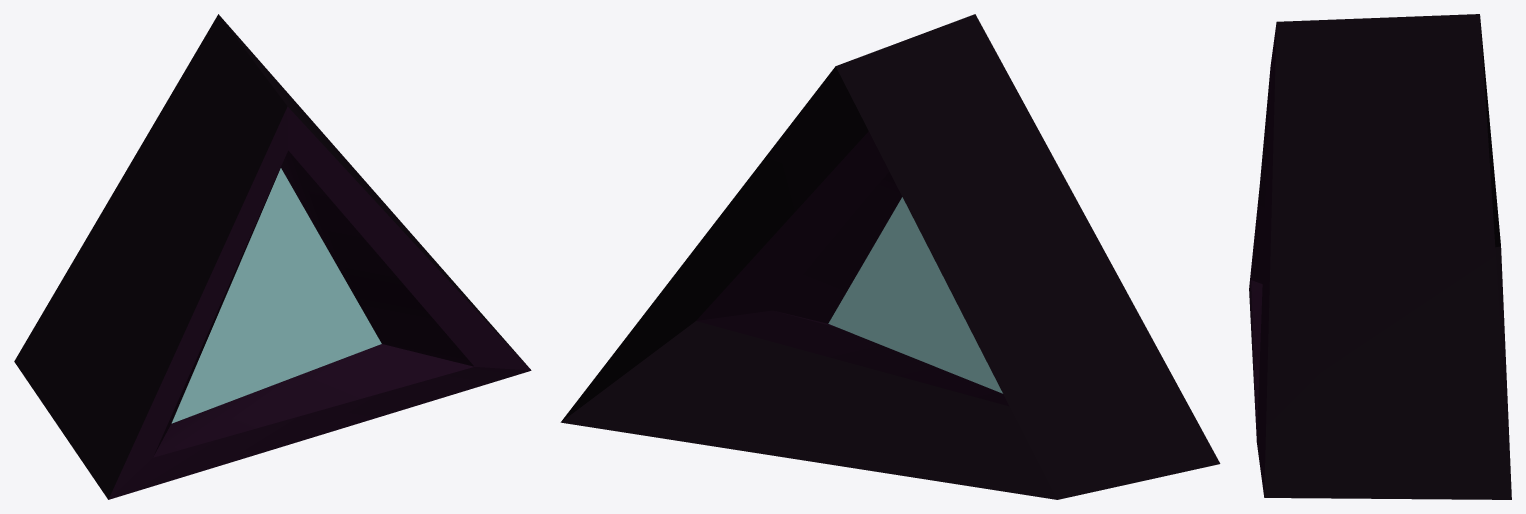
The model's file is c_house_window_triangle_ac.fbx.
3 renders of one model, left to right at view 1: azimuth 30°, elevation 25°; view 2: azimuth 150°, elevation 25°; view 3: azimuth 270°, elevation 25°, orthographic. The views are drawn at different scales.
Parts seen in each view (by area): view 1: c_house_window_triangle_ac; view 2: c_house_window_triangle_ac; view 3: c_house_window_triangle_ac.
Part boxes in pixels (box(x1,y1,x2,y2)): c_house_window_triangle_ac: box(14, 14, 531, 499); c_house_window_triangle_ac: box(560, 14, 1220, 499); c_house_window_triangle_ac: box(1249, 14, 1511, 499).
Bounding box in the file's own units: 1.72 × 1.36 × 0.8317.
